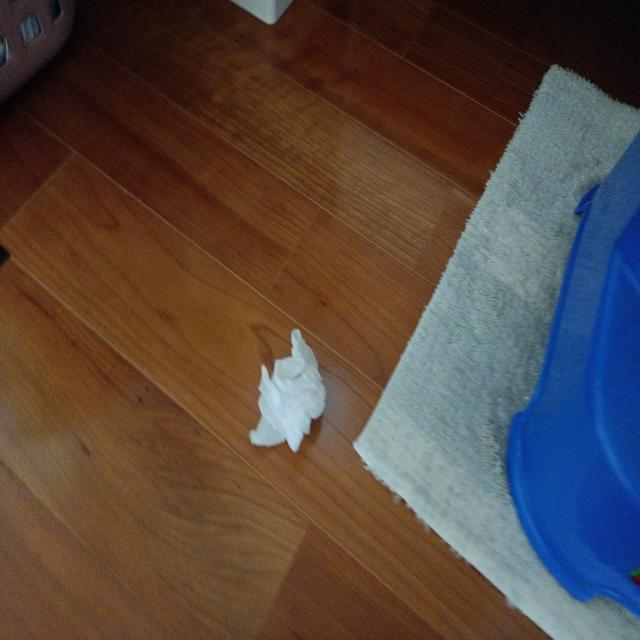Paper: (248, 329, 336, 458)
